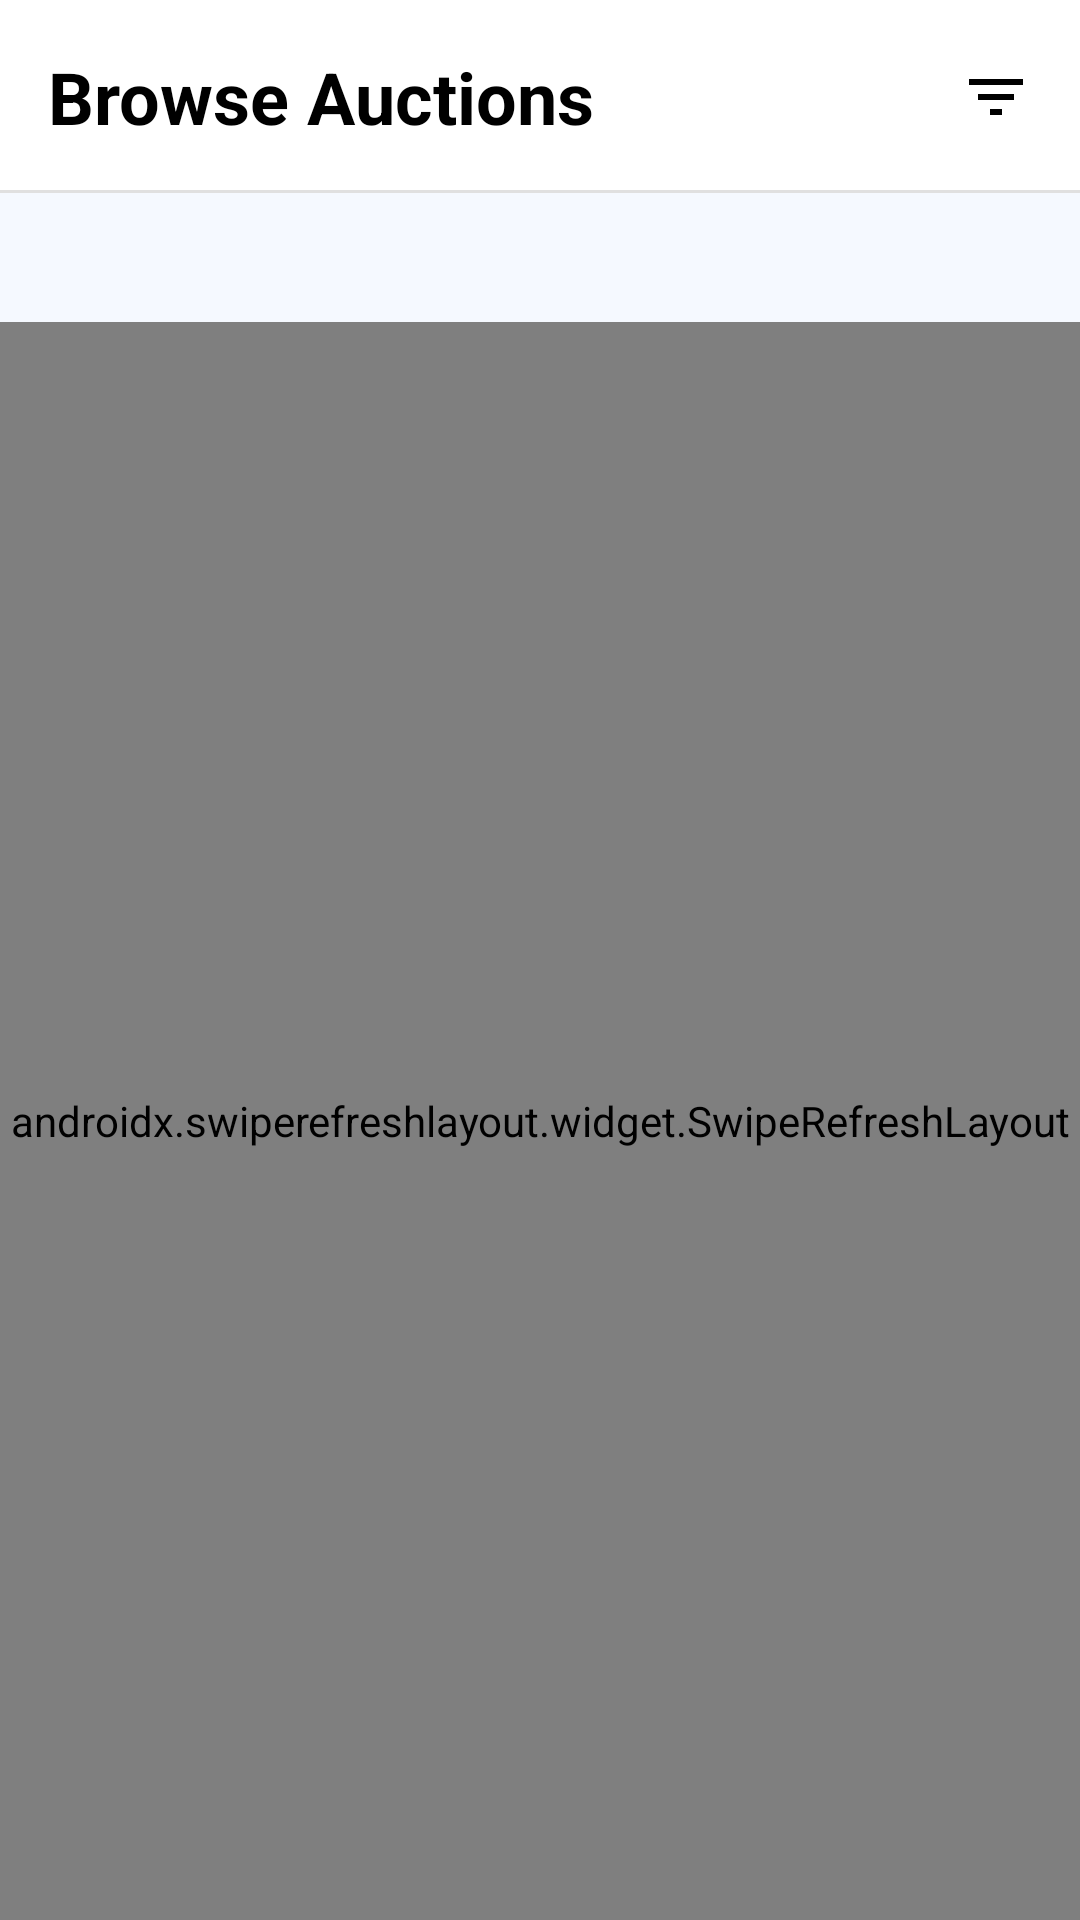

Named icons in this screenshot (1080 × 1920) and their bounding boxes, (x1, y1, x2, y2):
Filter: (969, 79, 1023, 115)
